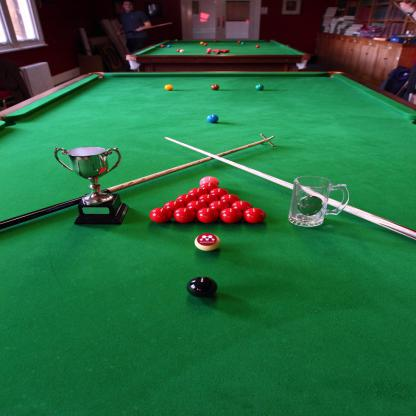Ball: (144, 175, 267, 224), (158, 40, 262, 55), (184, 277, 218, 300), (193, 234, 222, 253), (205, 113, 221, 124), (256, 85, 267, 93), (164, 84, 173, 92), (211, 84, 220, 90)
